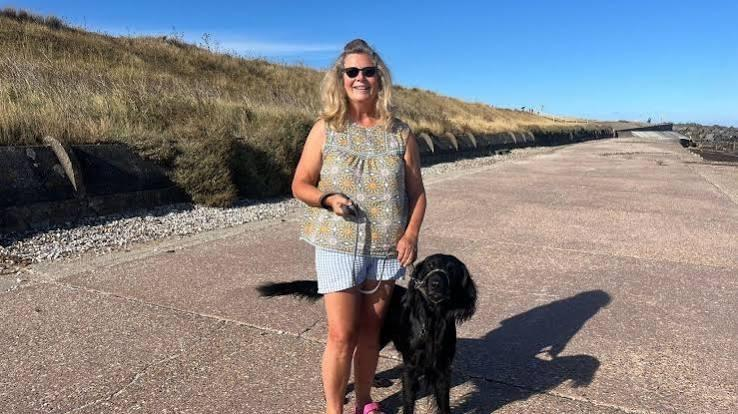adult_dog: (258, 252, 478, 414)
non-dog: (291, 39, 427, 414)
